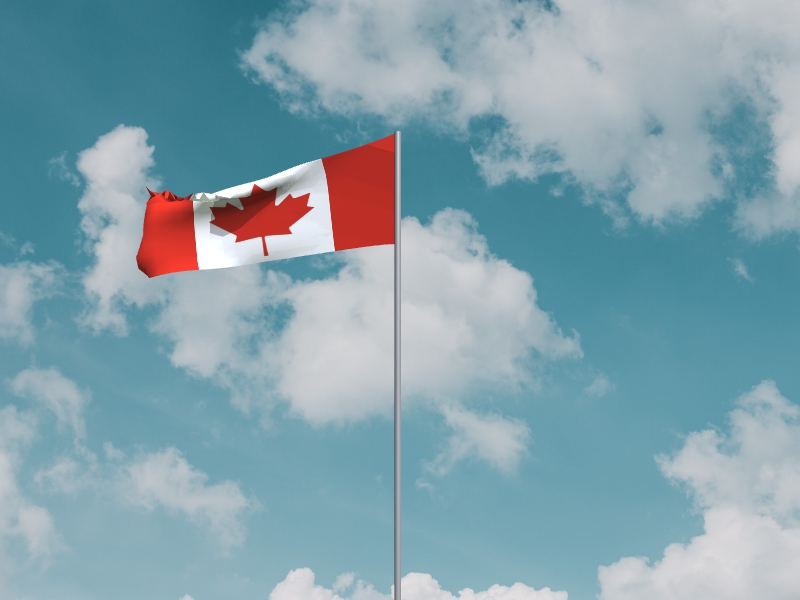ca: (136, 135, 395, 280)
